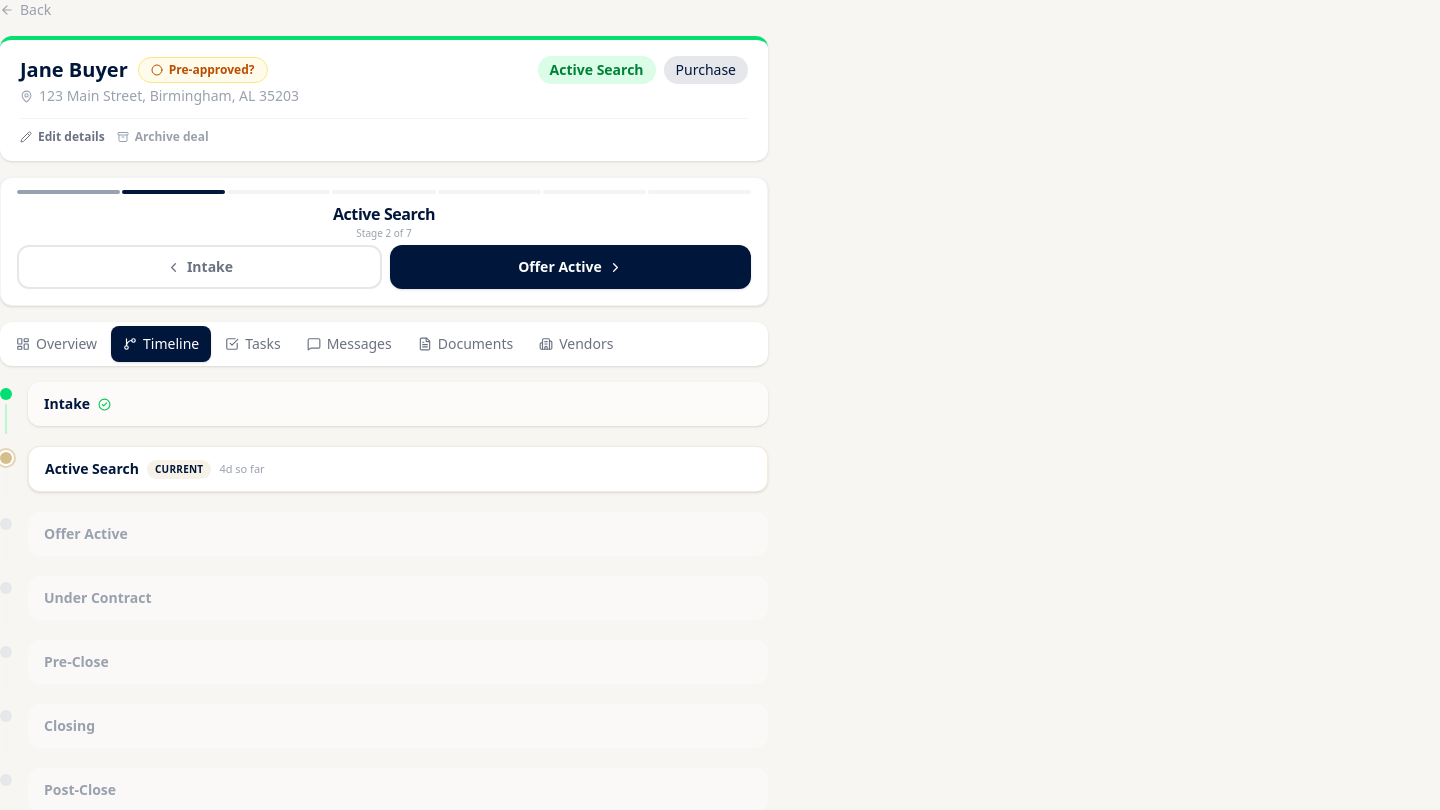
Stage advance posts the drafted client message (#185) › an empty draft posts nothing (stage still advances)
Click the button "Offer Active": click(570, 267) [390, 245, 751, 289]
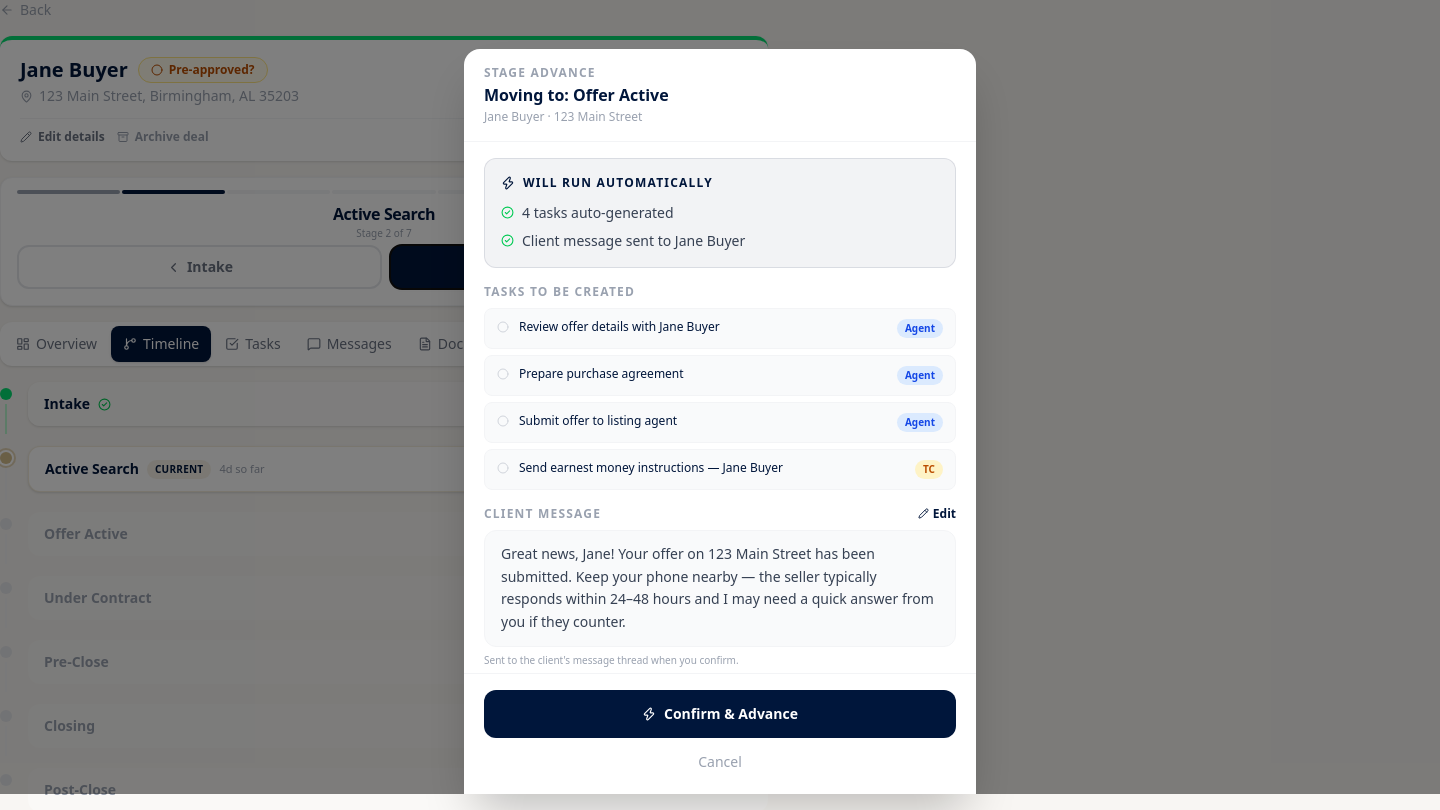
Now the button "Confirm & Advance" is shown, box [484, 690, 956, 738]
Click the button "Edit": click(937, 514) [918, 506, 956, 522]
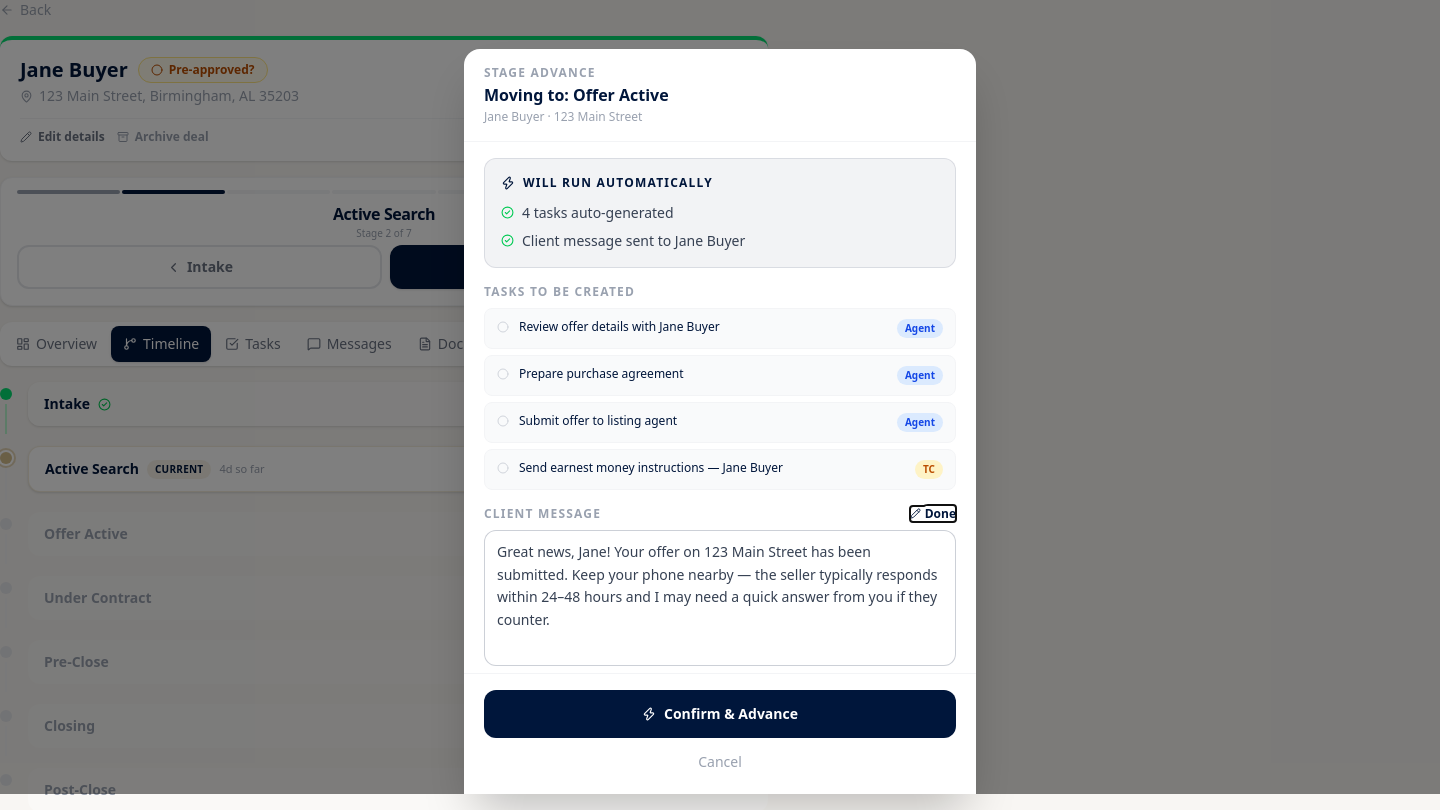
Clear the text box: (720, 598) [484, 530, 956, 666]
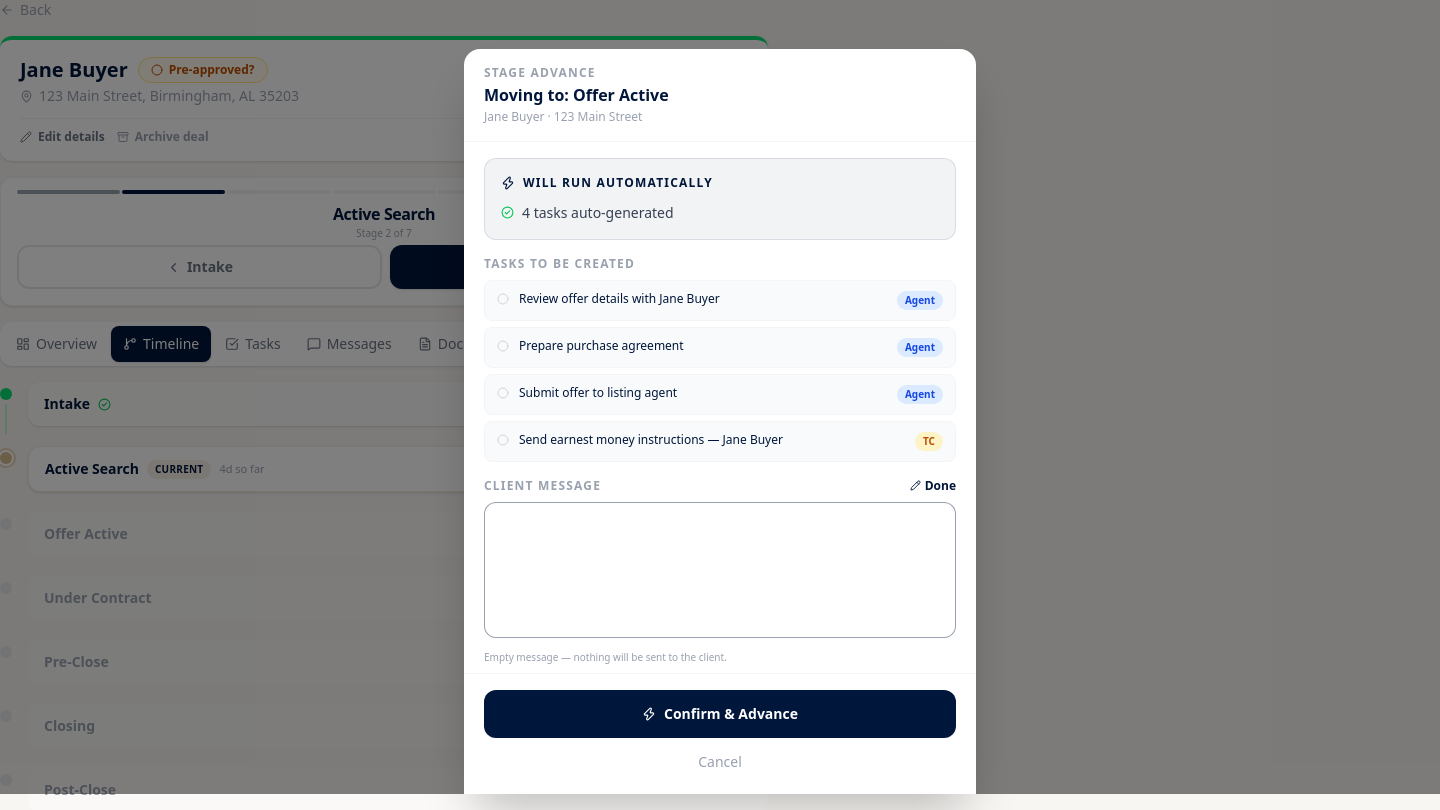
Click the button "Confirm & Advance": click(720, 714) [484, 690, 956, 738]
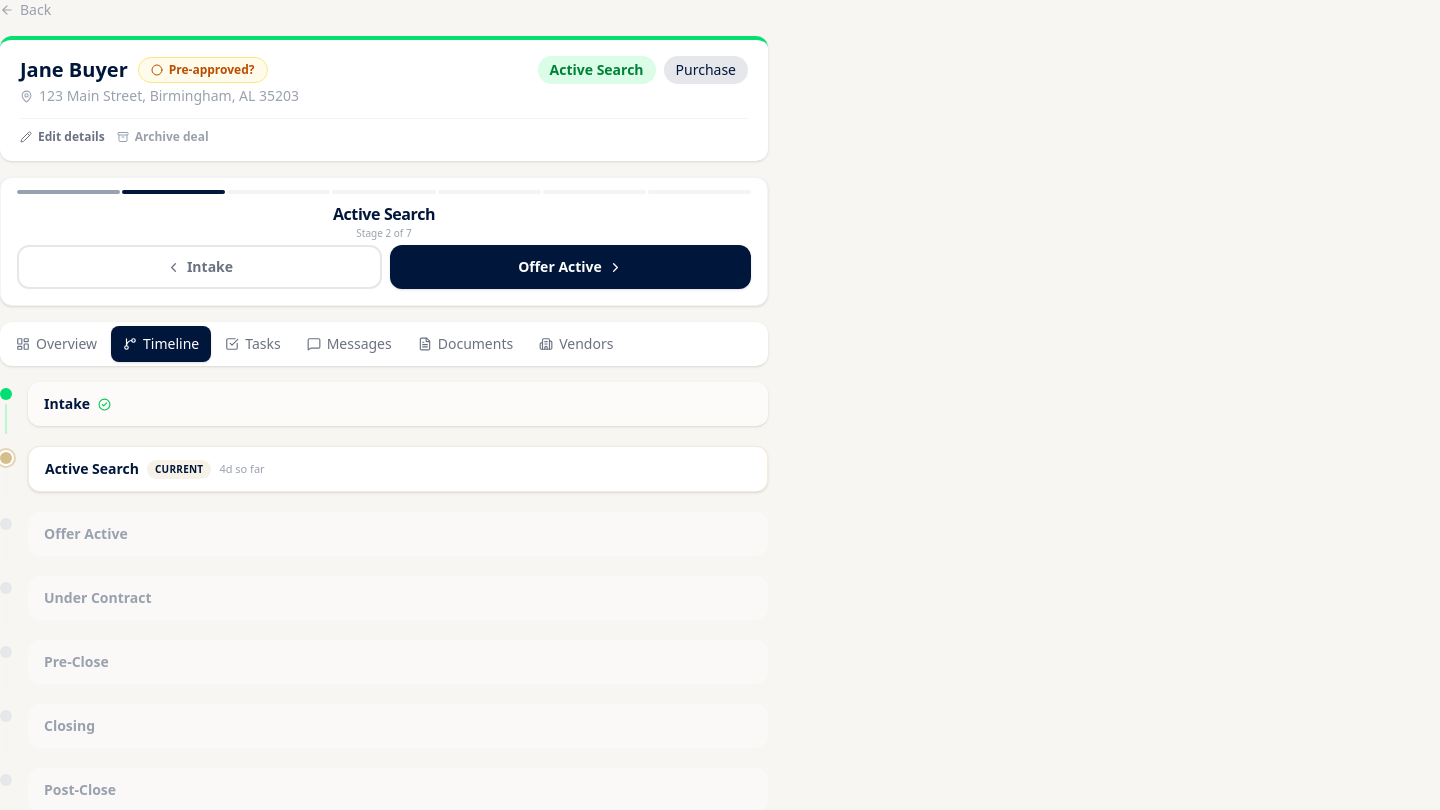
Now the button "Confirm & Advance" is gone
